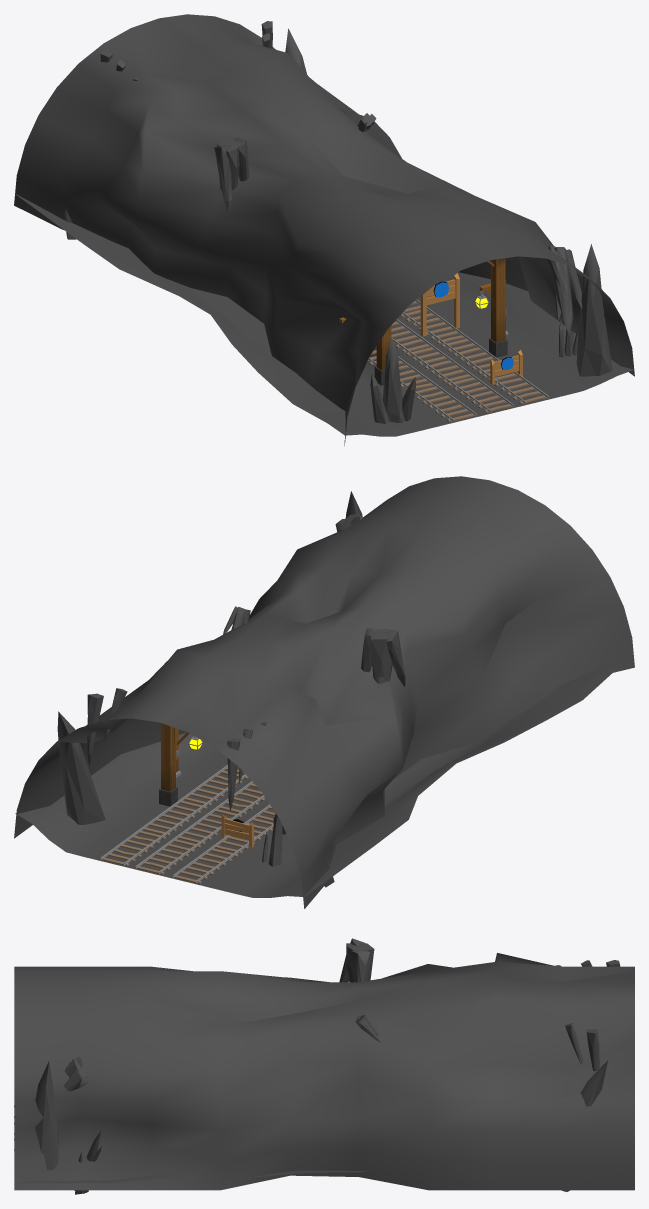
The model's file is Modulo de madeira V3.fbx.
3 renders of one model, top to bottom at view 1: azimuth 30°, elevation 25°; view 2: azimuth 150°, elevation 25°; view 3: azimuth 270°, elevation 25°, orthographic. The views are drawn at different scales.
Parts seen in each view (by area): view 1: Cube.019; view 2: Cube.019; view 3: Cube.019.
Part boxes in pixels (x1,y1,x2,y2): Cube.019: (14,14,634,445); Cube.019: (14,476,634,908); Cube.019: (14,938,634,1194).
Size of the model in its own units: 2412 by 1746 by 4762.
